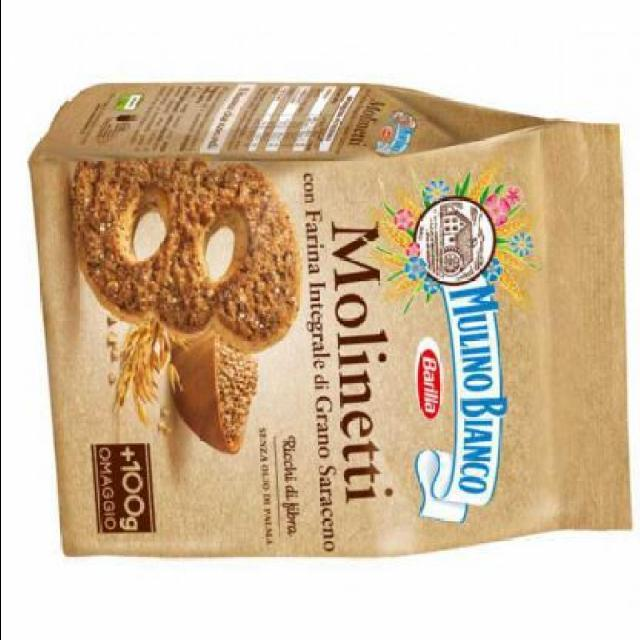Merendine: (36, 62, 618, 576)
